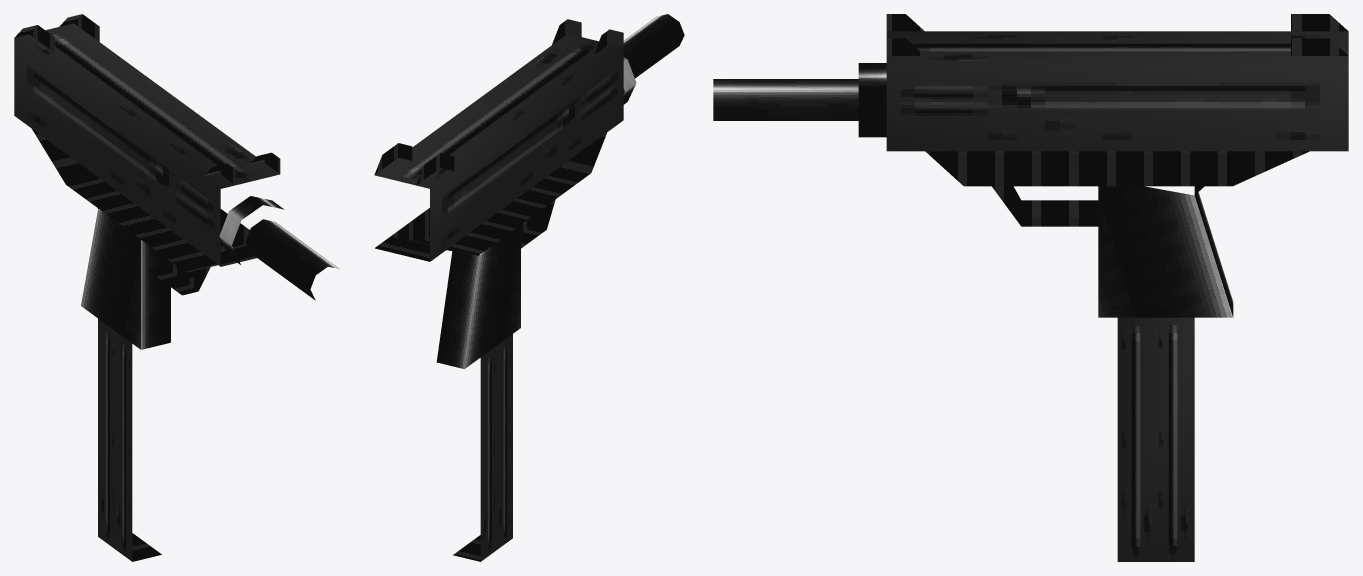
Rendered from gun.glb.
The picture shows the model from 3 angles, left to right: view 1: azimuth 30°, elevation 25°; view 2: azimuth 150°, elevation 25°; view 3: azimuth 270°, elevation 25°; orthographic projection. The views are drawn at different scales.
Visible parts, largest first — view 1: m9, m11, m10, m8; view 2: m9, m11, m10, m8; view 3: m11, m9, m10, m8.
Boxes of the visible parts, bbox=[...] form: m9: bbox=[14, 23, 279, 561]; m11: bbox=[14, 38, 220, 266]; m10: bbox=[81, 196, 339, 349]; m8: bbox=[15, 14, 280, 561]; m9: bbox=[375, 34, 622, 561]; m11: bbox=[430, 47, 623, 261]; m10: bbox=[436, 14, 684, 369]; m8: bbox=[374, 19, 624, 561]; m11: bbox=[886, 64, 1348, 151]; m9: bbox=[886, 31, 1348, 561]; m10: bbox=[713, 63, 1233, 317]; m8: bbox=[886, 14, 1348, 226].
Bounding box in the file's own units: 46 × 330 × 363.
4 materials, 4 textured.
